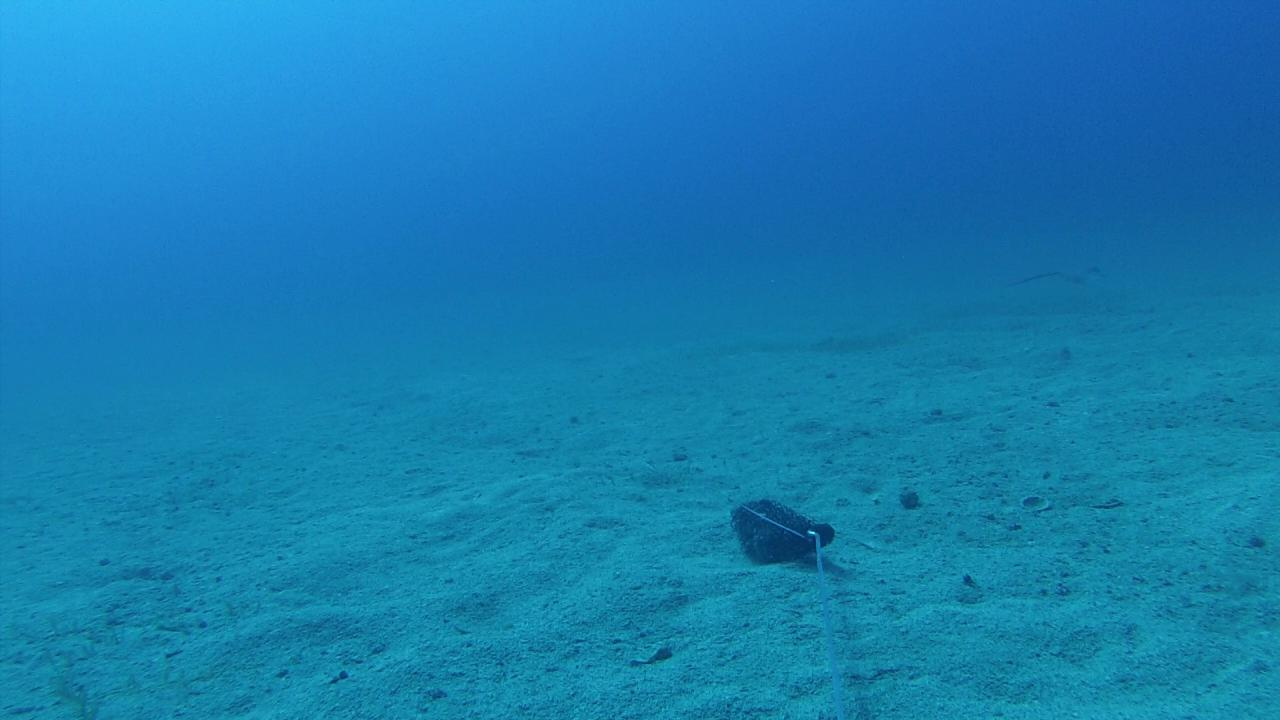dasyatis: (1014, 263, 1104, 286)
